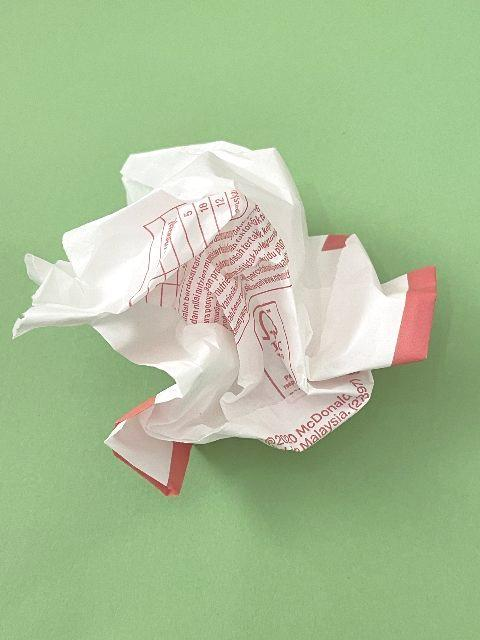paperbag: (12, 136, 438, 498)
